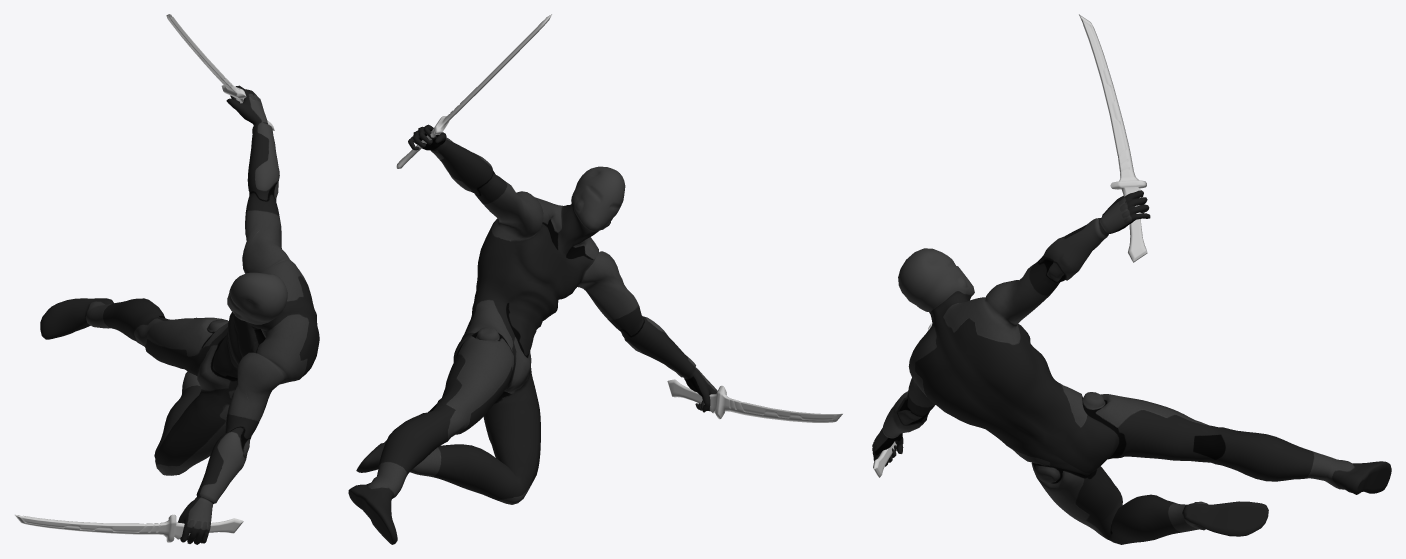
3 renders of one model, left to right at view 1: azimuth 30°, elevation 25°; view 2: azimuth 150°, elevation 25°; view 3: azimuth 270°, elevation 25°, orthographic. The views are drawn at different scales.
Visible parts, largest first — view 1: Cyborg_Ninja_Killer, Sword_l, Sword_l001; view 2: Cyborg_Ninja_Killer, Sword_l, Sword_l001; view 3: Cyborg_Ninja_Killer, Sword_l001.
Part boxes in pixels (x1,y1,x2,y2): Cyborg_Ninja_Killer: (40,85,319,544); Sword_l: (14,514,243,542); Sword_l001: (166,14,274,130); Cyborg_Ninja_Killer: (348,124,717,544); Sword_l: (667,379,842,422); Sword_l001: (396,14,551,168); Cyborg_Ninja_Killer: (872,190,1391,544); Sword_l001: (1079,14,1147,262).
Bounding box in the file's own units: 150 × 194 × 177.
